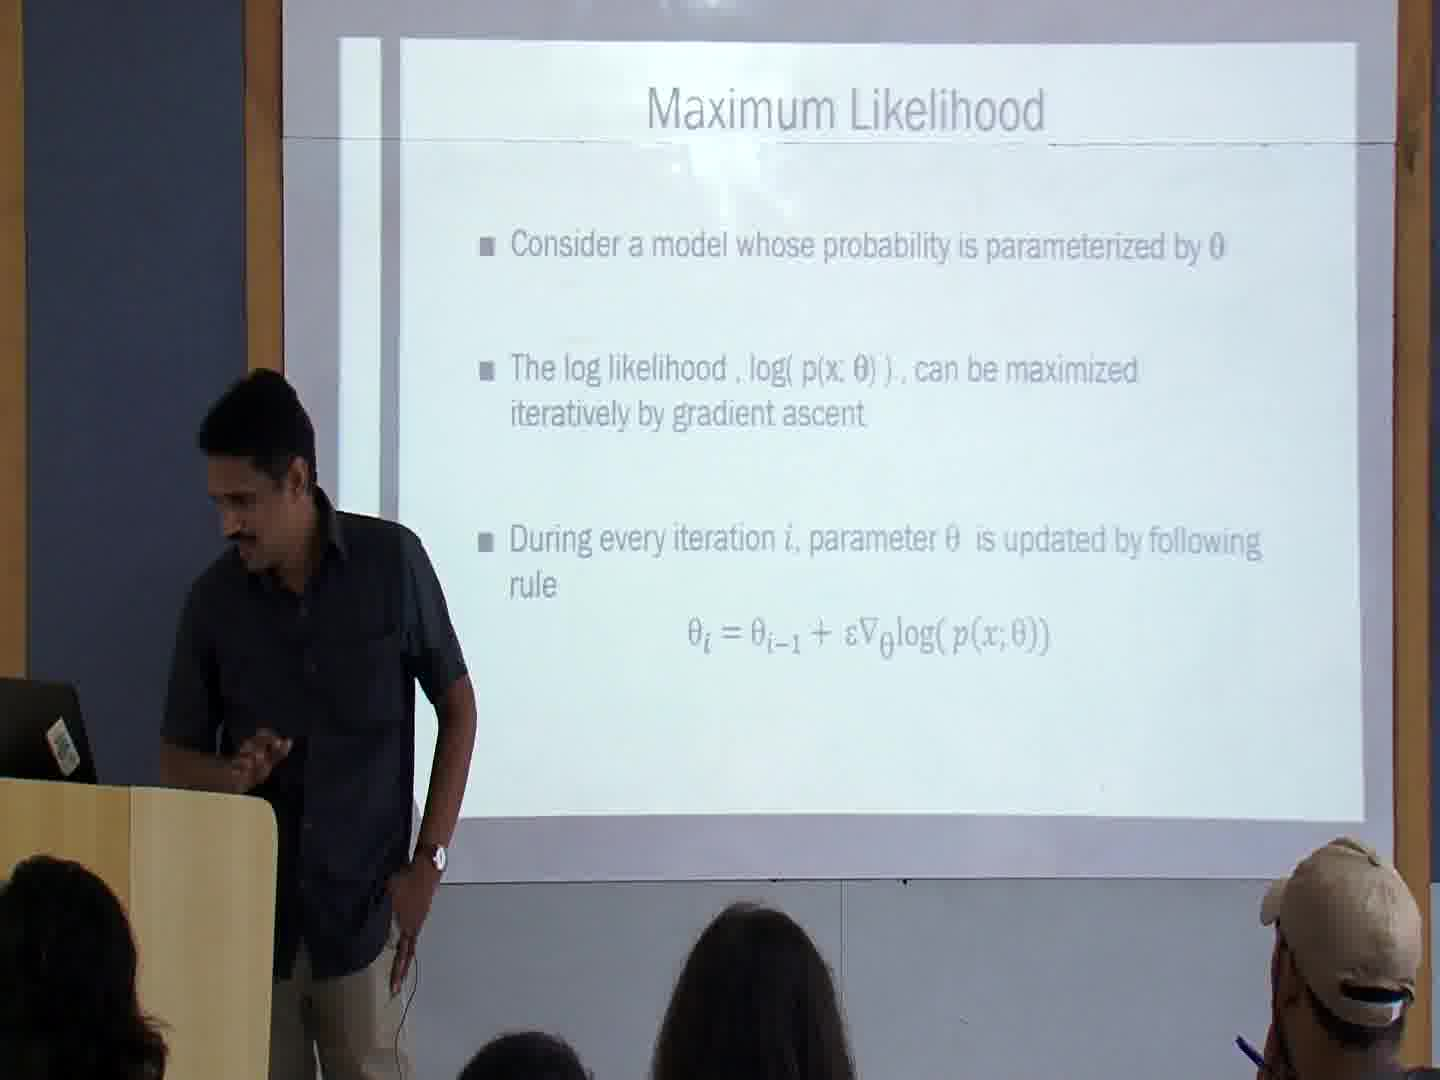slide: (337, 37, 1362, 824)
